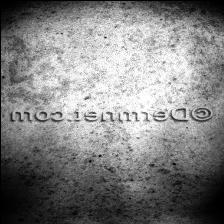Toxin: (0, 30, 78, 105), (154, 167, 170, 175)
